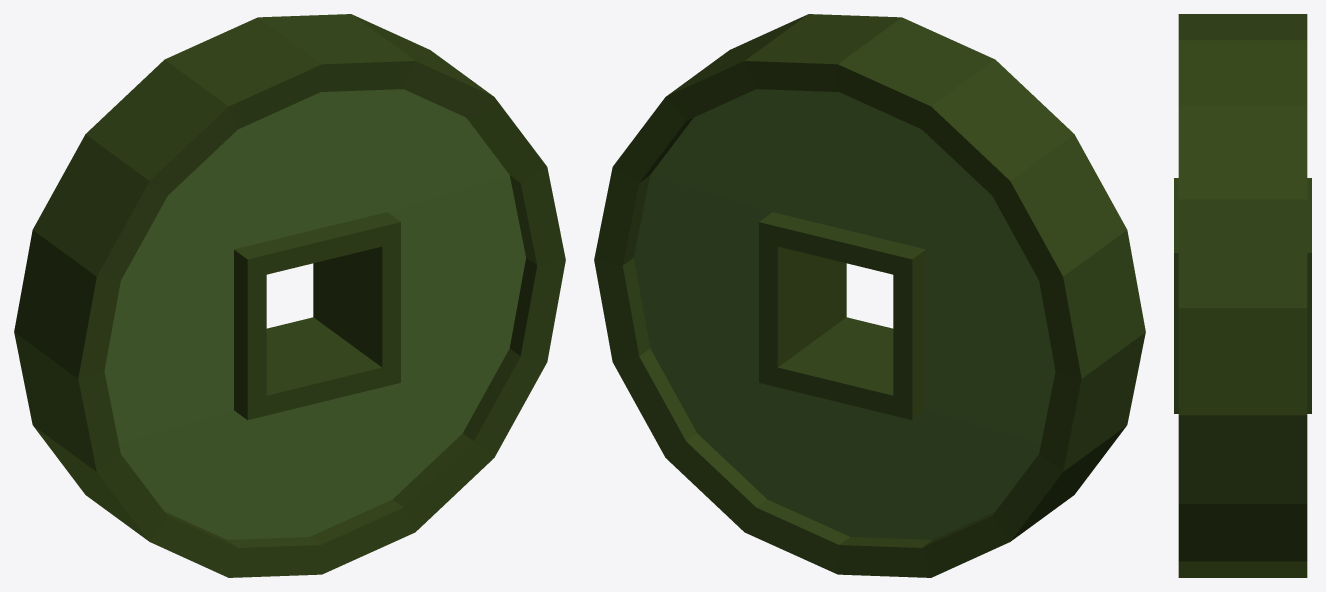
Rendered from coin.fbx.
3 renders of one model, left to right at view 1: azimuth 30°, elevation 25°; view 2: azimuth 150°, elevation 25°; view 3: azimuth 270°, elevation 25°, orthographic.
Visible parts, largest first — view 1: Cube; view 2: Cube; view 3: Cube.
Part boxes in pixels (left/top/right/bottom): Cube: left=14, top=14, right=565, bottom=577; Cube: left=594, top=14, right=1145, bottom=577; Cube: left=1174, top=14, right=1311, bottom=577.
Bounding box in the file's own units: 290 × 290 × 70.83.
